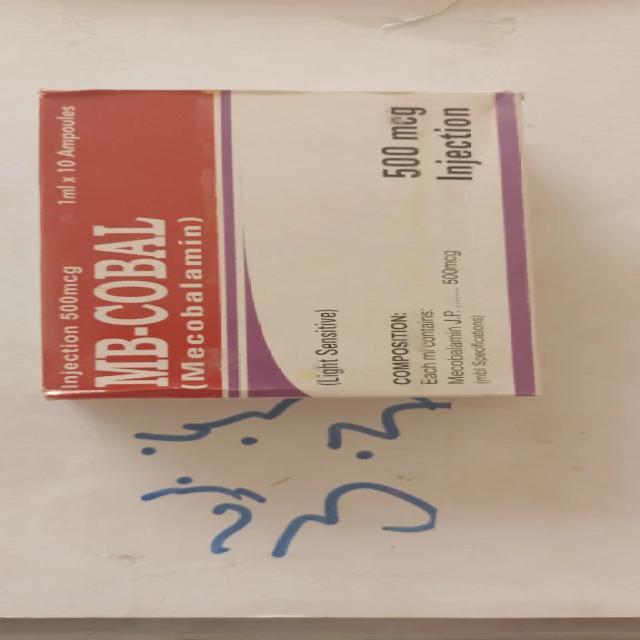drug-name: (93, 210, 171, 388)
